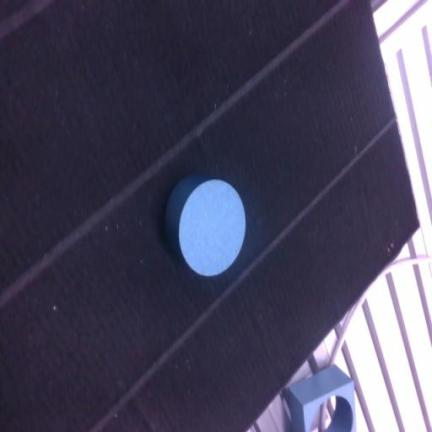cylinder: (165, 175, 245, 276)
